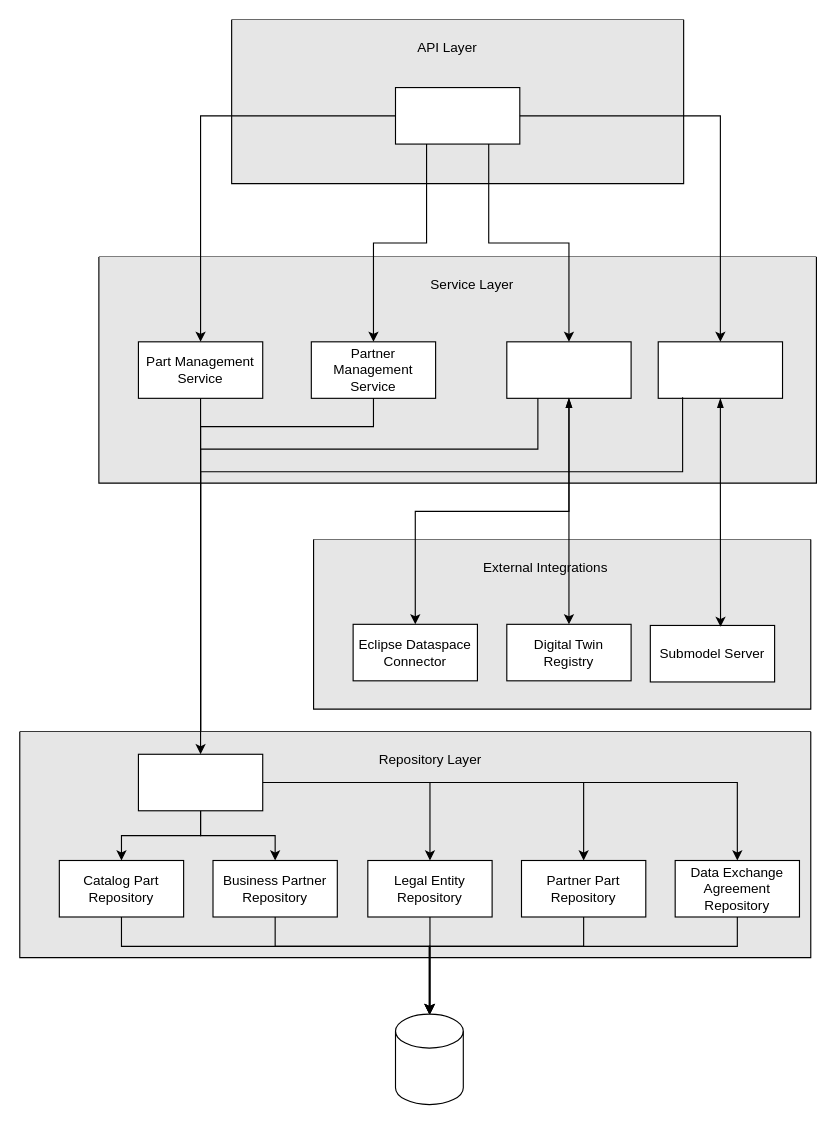
This 836x1124 diagram has some shape labels left out. Here are the shapes that lost their labels. From the top down, the centre of each, then its label:
At point (457, 115): "Backend FastAPI".
At point (568, 369): "Twin Management Service".
At point (720, 369): "Submodel Dispatcher Service".
At point (200, 782): "Repository Manager".
At point (428, 1059): "Metadata Database".
